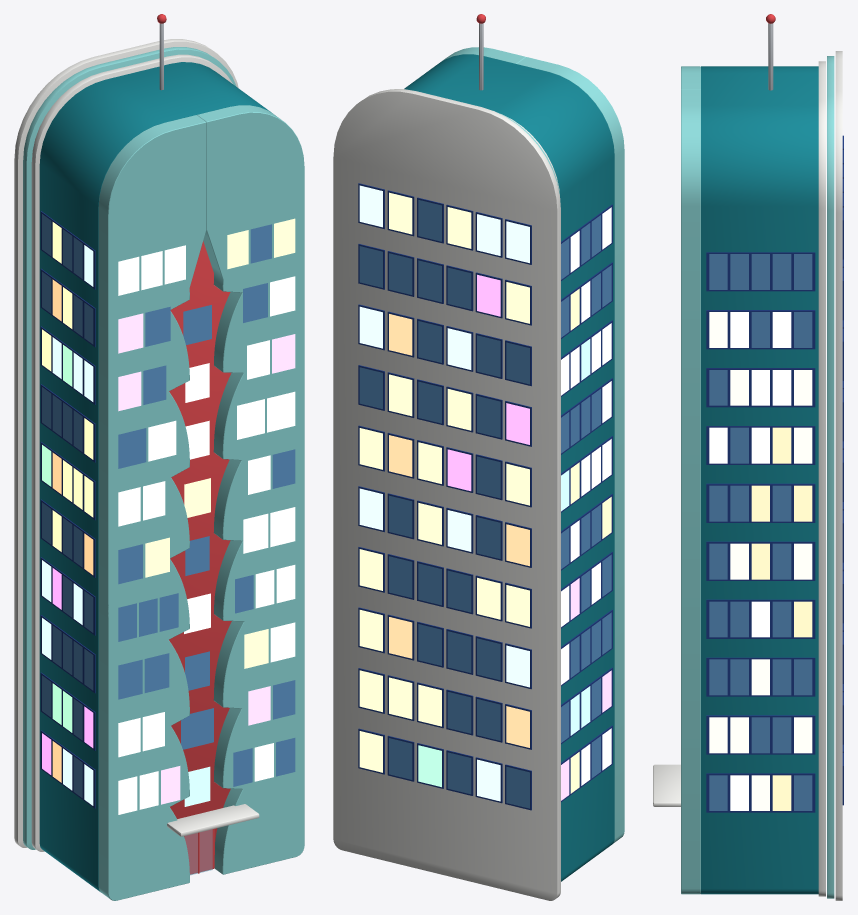
Rendered from torre_onda_turquesa.glb.
The picture shows the model from 3 angles, left to right: view 1: azimuth 30°, elevation 25°; view 2: azimuth 150°, elevation 25°; view 3: azimuth 270°, elevation 25°; orthographic projection.
Parts seen in each view (by area): view 1: torre_onda_turquesa; view 2: torre_onda_turquesa; view 3: torre_onda_turquesa.
Boxes of the visible parts, <box> form: torre_onda_turquesa: <box>14,14,304,900</box>; torre_onda_turquesa: <box>333,14,624,900</box>; torre_onda_turquesa: <box>653,14,843,900</box>.
Size of the model in its own units: 12.96 by 46.15 by 9.56.
8 materials, 1 textured.
